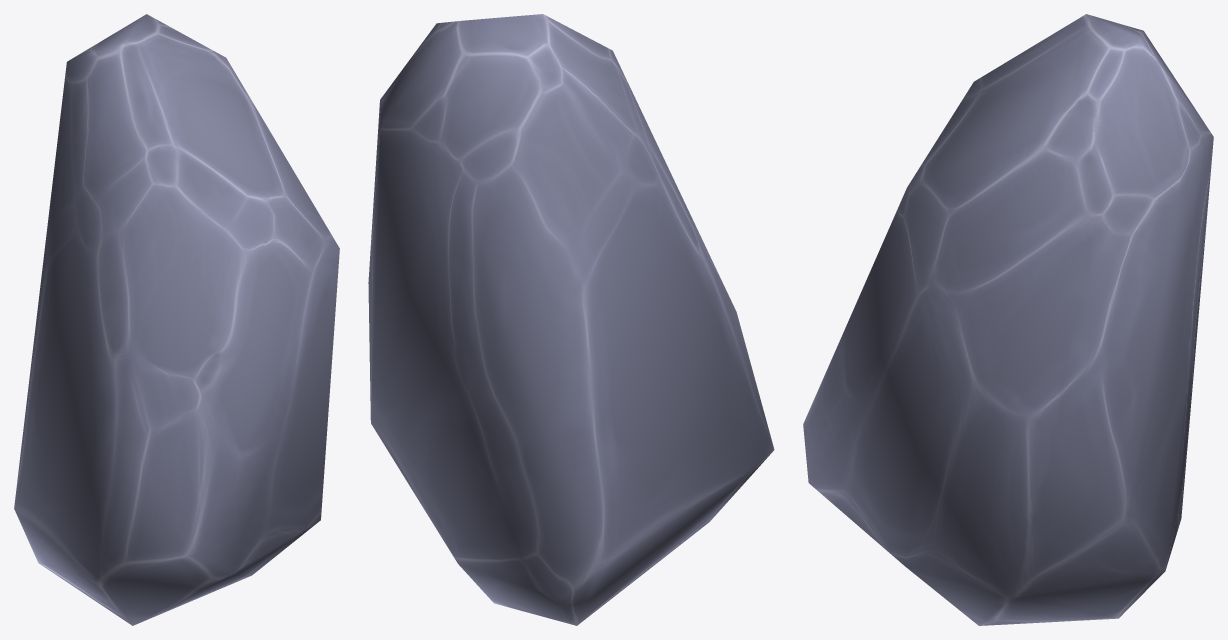
File: Stone_2_Variation_1.fbx
The picture shows the model from 3 angles, left to right: view 1: azimuth 30°, elevation 25°; view 2: azimuth 150°, elevation 25°; view 3: azimuth 270°, elevation 25°; orthographic projection. The views are drawn at different scales.
Parts seen in each view (by area): view 1: Stone_2_Variation_1; view 2: Stone_2_Variation_1; view 3: Stone_2_Variation_1.
Part boxes in pixels (<box>): Stone_2_Variation_1: <box>14,14,339,625</box>; Stone_2_Variation_1: <box>368,14,774,625</box>; Stone_2_Variation_1: <box>803,14,1213,625</box>.
Size of the model in its own units: 82.94 by 146 by 92.49.
